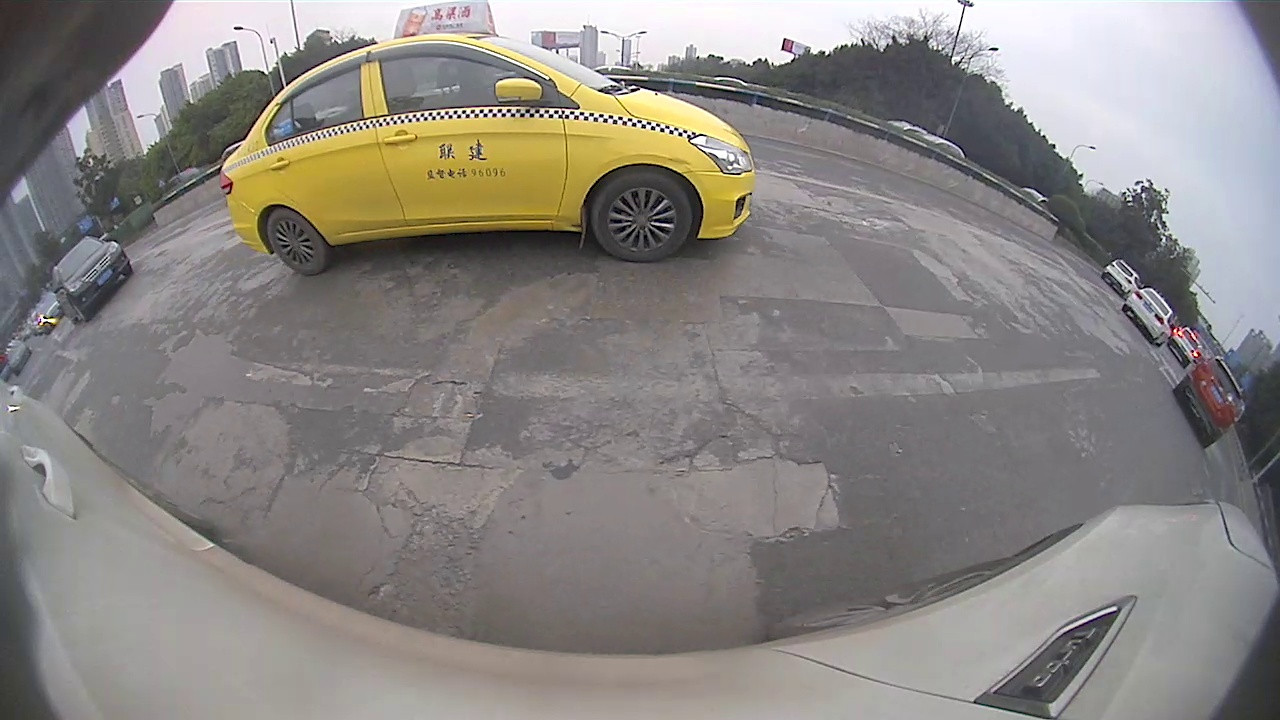car: (218, 3, 755, 276), (48, 236, 131, 323), (1173, 358, 1243, 450), (1125, 286, 1179, 348), (1167, 326, 1202, 368), (1101, 258, 1137, 297), (37, 295, 65, 330)
front: (590, 166, 696, 263)
rear: (265, 208, 328, 276)
